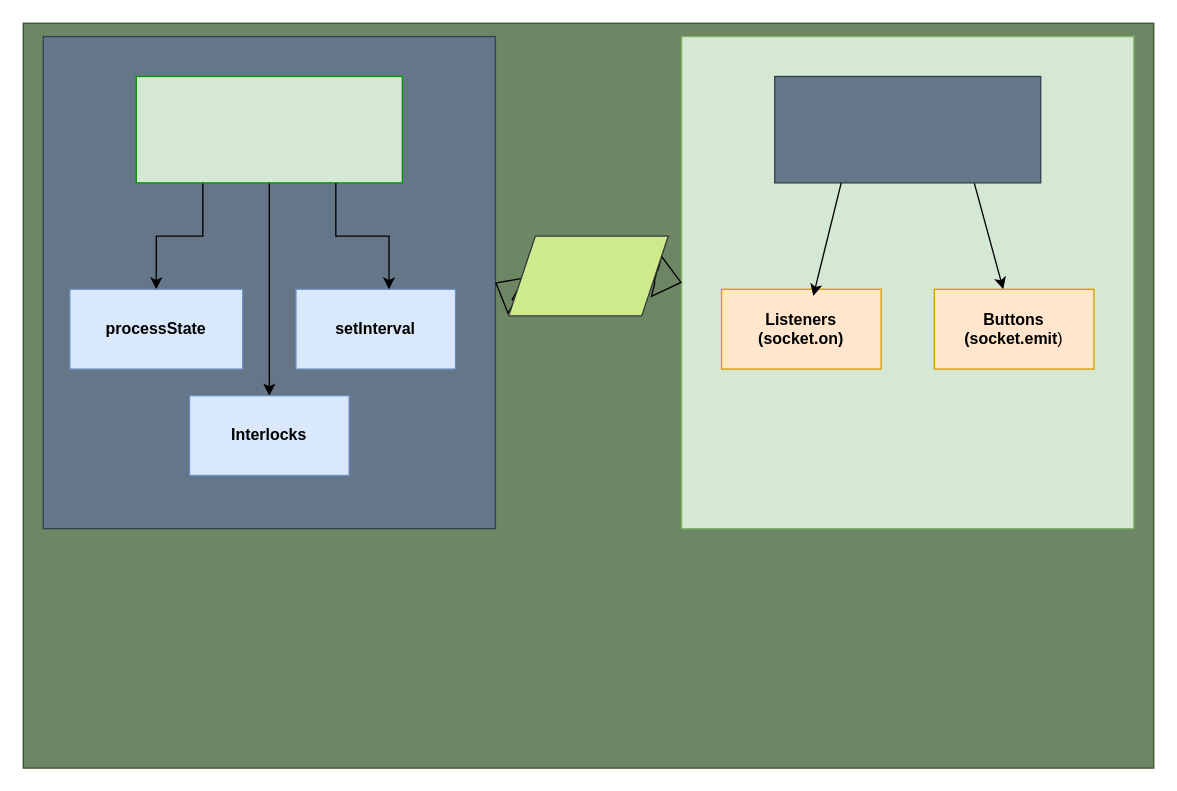
Some shapes in this 1177 by 791 pixel diagram are drawn without their labels. Each missing label, with the centre of its shape:
CLIENT: point 907,129
SERVER: point 268,129
Socket.IO connection: point 587,275
